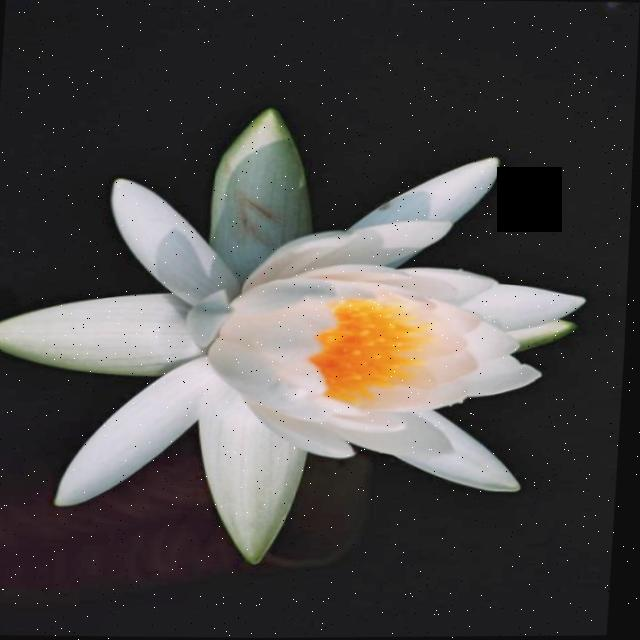water-lily: (0, 87, 614, 591)
